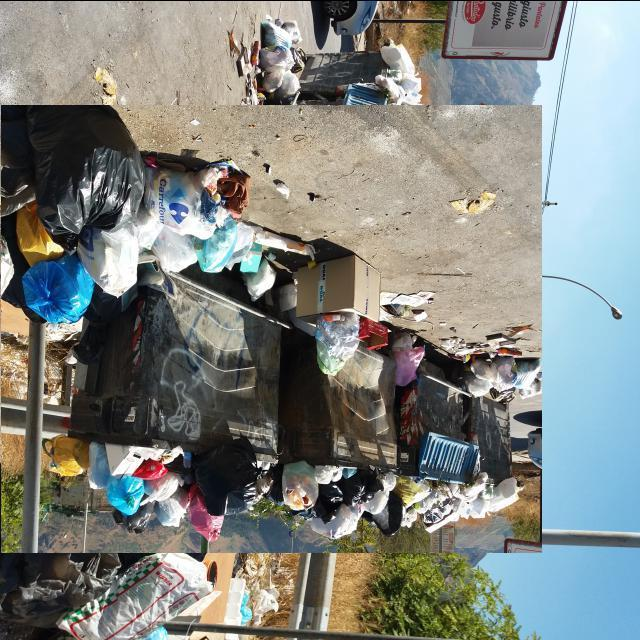Trashbag: (9, 97, 150, 253), (195, 441, 264, 517), (343, 468, 383, 509), (315, 486, 347, 522)
